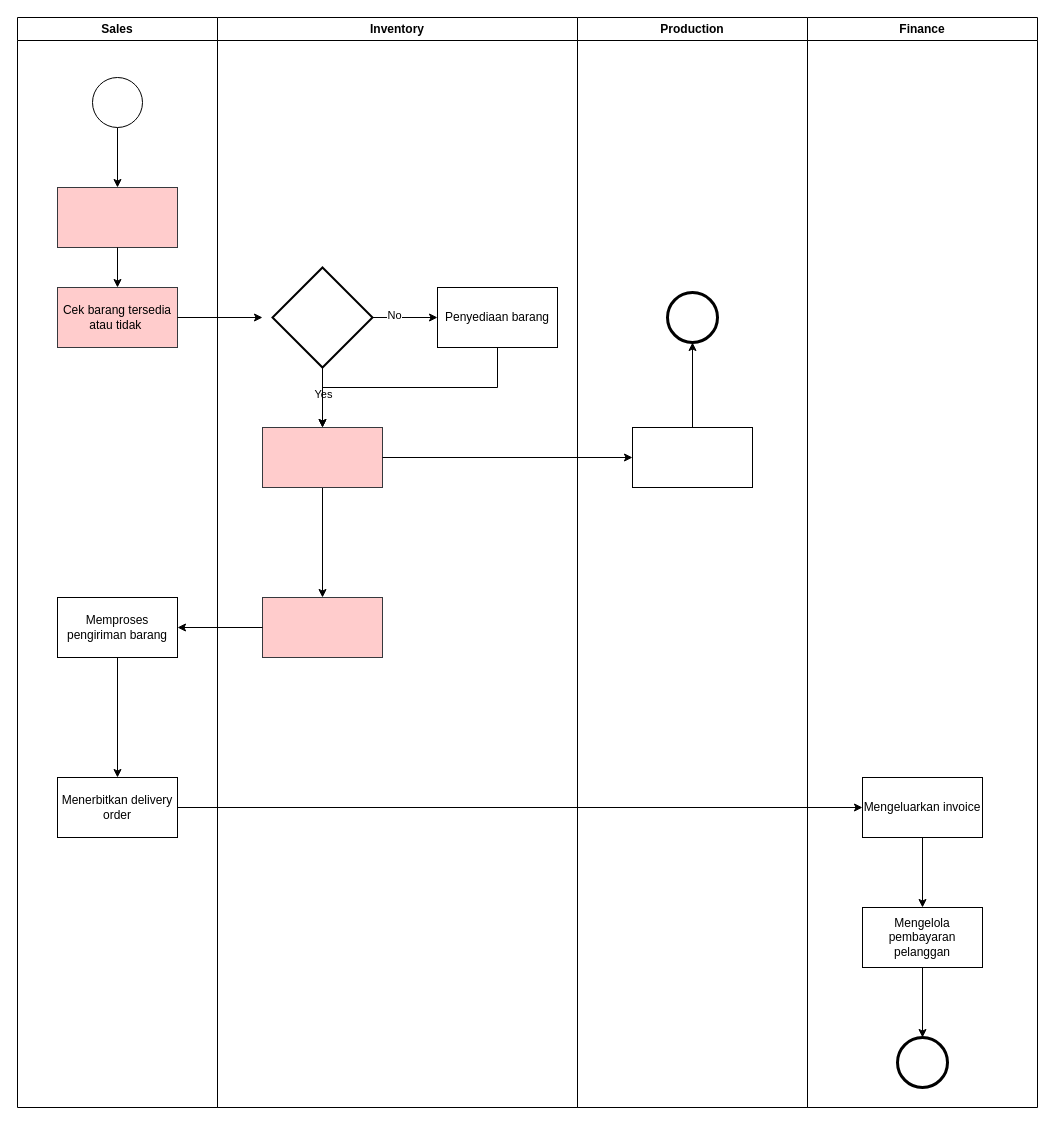
Image size: 1055x1125. Some labels were removed from this diagram. Each missing label, with the centre of its shape:
Menerima pesana pelanggan: (x=117, y=217)
Mengelola pengelolaan stok dan melaporkan ketersediaan: (x=322, y=627)
Mengkonfirmasi permintaan produksi: (x=692, y=457)
Pengajuan perancangan produksi: (x=322, y=457)
Stok tersedia/tidak?: (x=322, y=317)
